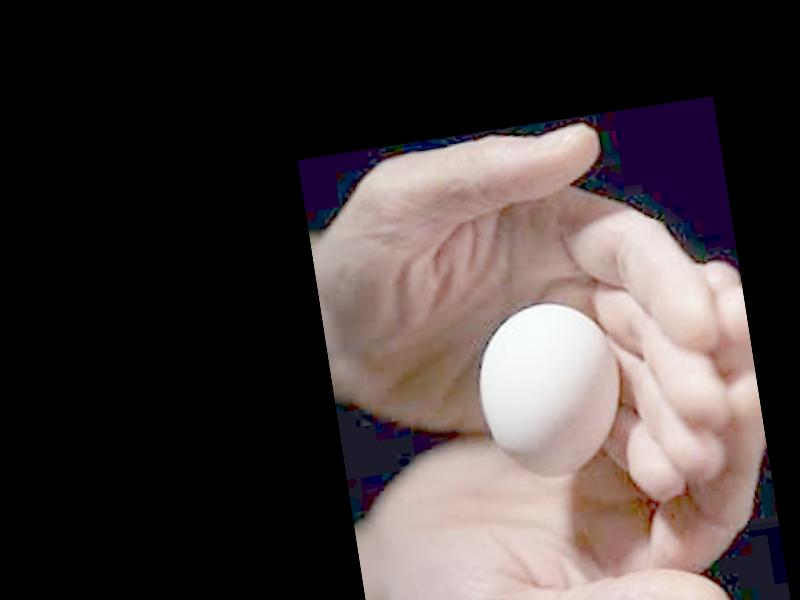Eggs: (467, 294, 631, 484)
